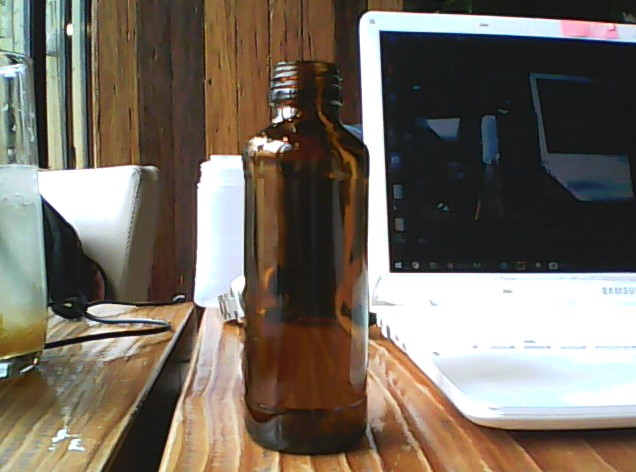Glass: (239, 55, 371, 456)
